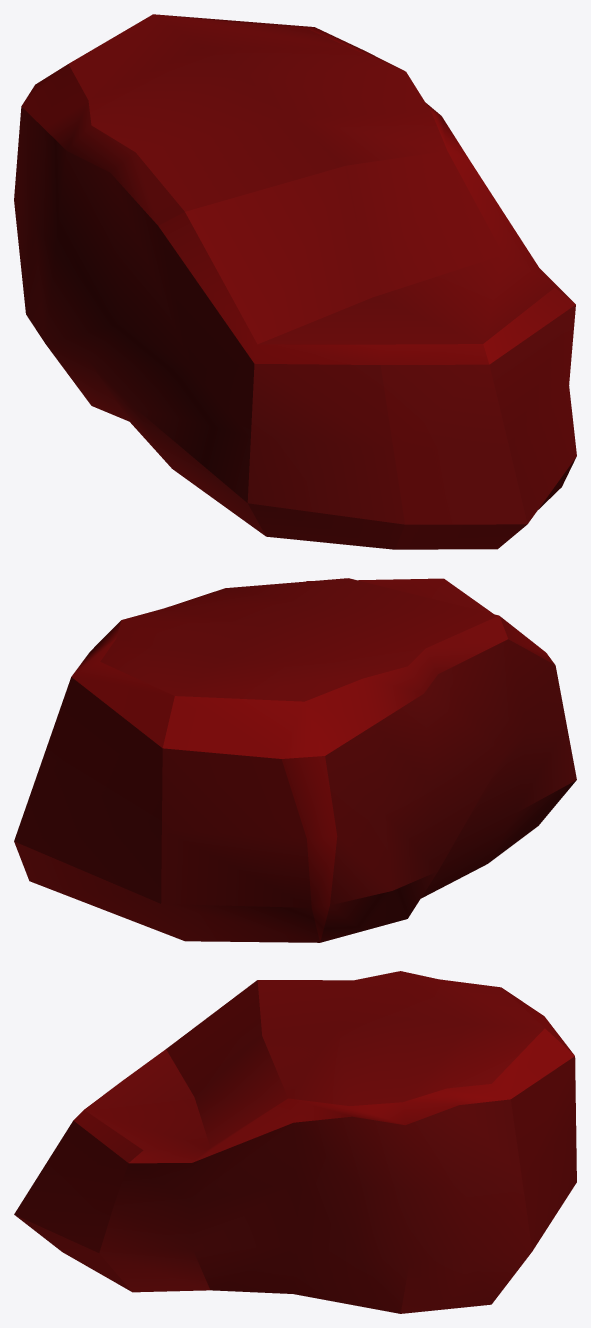
Rendered from geology-pebbles-sharppebble_v6.fbx.
3 renders of one model, top to bottom at view 1: azimuth 30°, elevation 25°; view 2: azimuth 150°, elevation 25°; view 3: azimuth 270°, elevation 25°, orthographic. The views are drawn at different scales.
Visible parts, largest first — view 1: SharpPebble_v6; view 2: SharpPebble_v6; view 3: SharpPebble_v6.
Part boxes in pixels (x1=…): SharpPebble_v6: x1=14, y1=14, x2=576, y2=549; SharpPebble_v6: x1=14, y1=578, x2=576, y2=942; SharpPebble_v6: x1=14, y1=971, x2=576, y2=1313.
Size of the model in its own units: 9.37 by 6.49 by 14.7.
